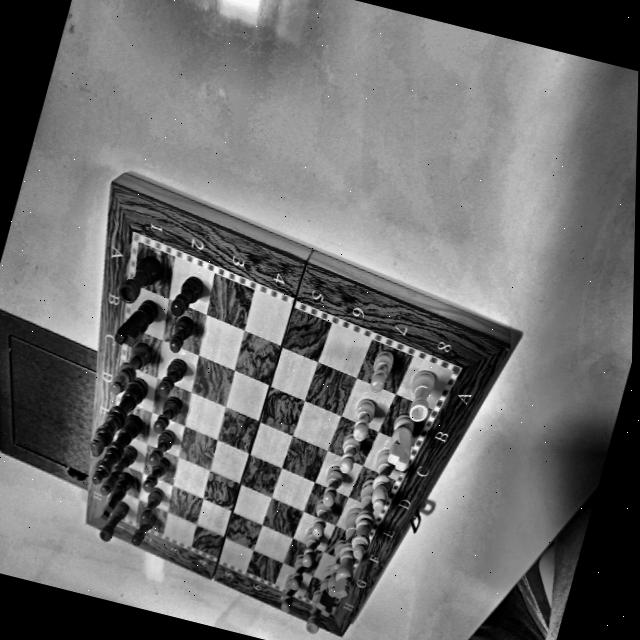black-bishop: (104, 334, 155, 403), (98, 438, 137, 499)
black-king: (86, 370, 151, 466)
black-knight: (110, 293, 160, 352), (98, 468, 133, 522)
black-pawn: (166, 272, 206, 320), (136, 452, 175, 496), (154, 353, 191, 398), (166, 312, 198, 358), (151, 392, 183, 436), (136, 484, 166, 526), (146, 429, 178, 468), (129, 510, 157, 548)
black-queen: (87, 406, 145, 494)
black-rook: (116, 248, 168, 310), (93, 495, 134, 548)
white-bishop: (362, 446, 402, 514), (321, 537, 349, 598)
white-king: (323, 503, 373, 600)
white-knight: (379, 410, 423, 472), (310, 562, 343, 616)
white-pawn: (362, 344, 399, 395), (347, 394, 378, 442), (335, 430, 362, 477), (296, 524, 324, 568), (317, 464, 345, 508), (306, 498, 334, 538), (284, 550, 310, 591), (276, 574, 300, 613)
white-queen: (341, 474, 388, 562)
white-rook: (398, 364, 443, 424), (299, 584, 330, 636)
